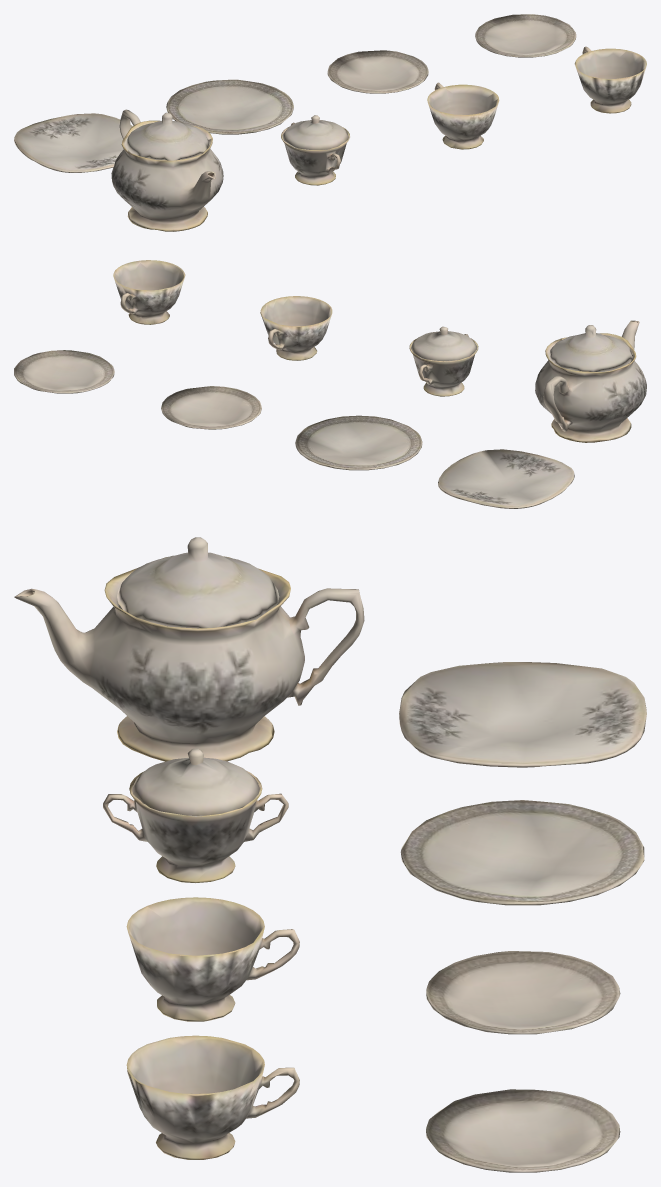
The model's file is tea_set_01.glb.
The picture shows the model from 3 angles, top to bottom: view 1: azimuth 30°, elevation 25°; view 2: azimuth 150°, elevation 25°; view 3: azimuth 270°, elevation 25°; orthographic projection. The views are drawn at different scales.
Visible parts, largest first — view 1: tea_set_01_plate_large_square_01; view 2: tea_set_01_plate_large_square_01; view 3: tea_set_01_plate_large_square_01.
Boxes of the visible parts, x1=… form: tea_set_01_plate_large_square_01: x1=14, y1=14, x2=646, y2=231; tea_set_01_plate_large_square_01: x1=14, y1=260, x2=646, y2=508; tea_set_01_plate_large_square_01: x1=14, y1=537, x2=646, y2=1172.
Size of the model in its own units: 0.9176 by 0.165 by 0.4836.
1 material, 1 textured.
